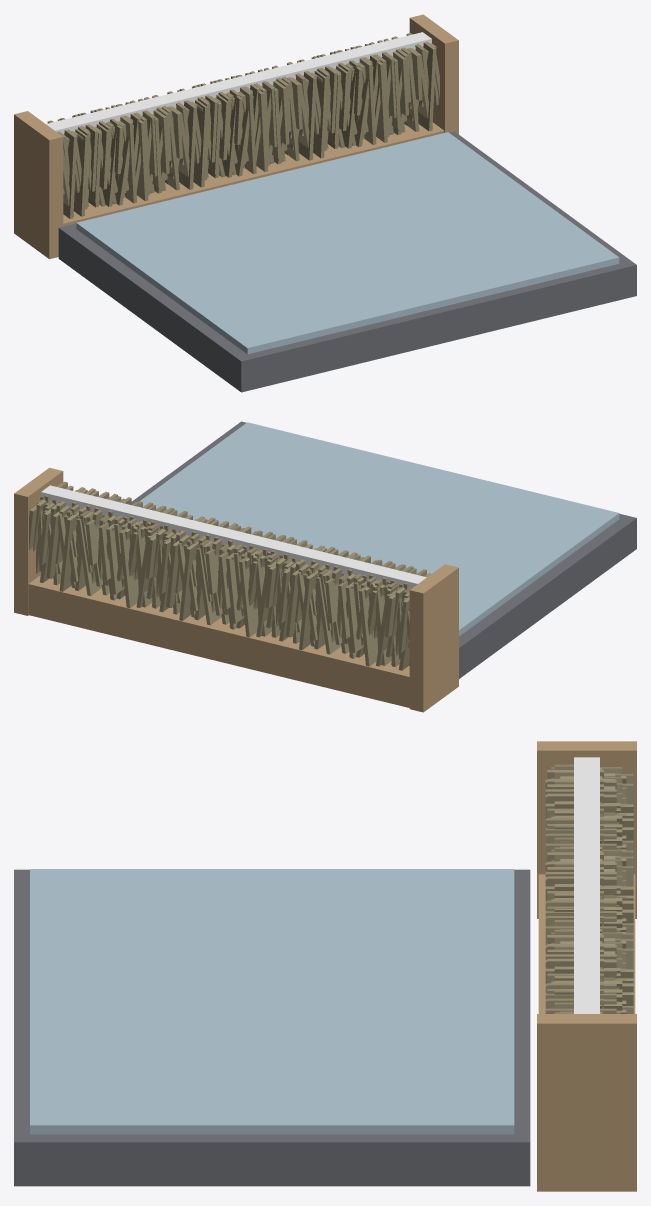
The model's file is racecourse-and-parade-ring-water-jump-edge-9f4a05c9__38600.glb.
3 views of the same model, one above another, from view 1: azimuth 30°, elevation 25°; view 2: azimuth 150°, elevation 25°; view 3: azimuth 270°, elevation 25° (orthographic). The views are drawn at different scales.
Visible parts, largest first — view 1: water-jump-edge; view 2: water-jump-edge; view 3: water-jump-edge.
Boxes of the visible parts, bbox=[...] form: water-jump-edge: bbox=[14, 14, 636, 392]; water-jump-edge: bbox=[14, 421, 636, 712]; water-jump-edge: bbox=[14, 741, 636, 1191].
Size of the model in its own units: 4.14 by 1.15 by 3.86.
